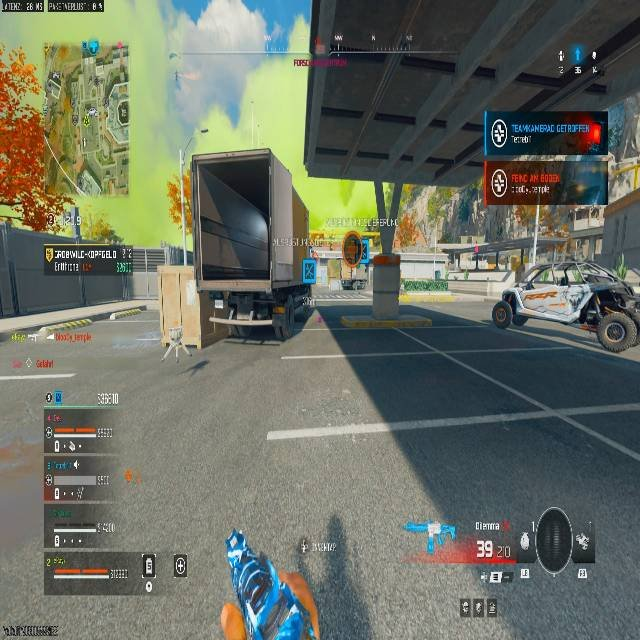player: (339, 231, 368, 292)
